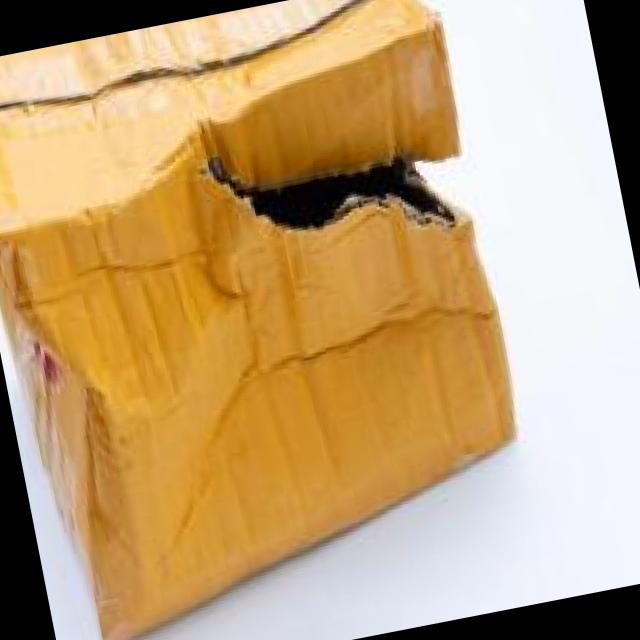crushed: (1, 70, 198, 635), (207, 252, 520, 447)
tear: (207, 146, 471, 241)
